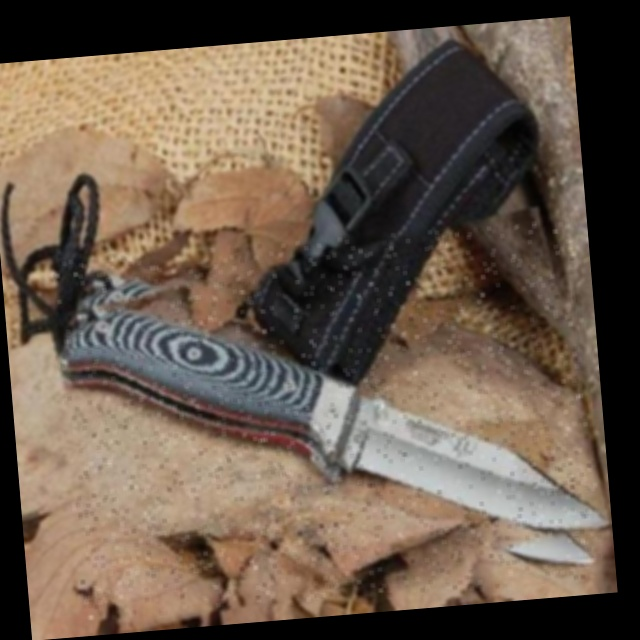Sharp-Object: (53, 220, 604, 621)
